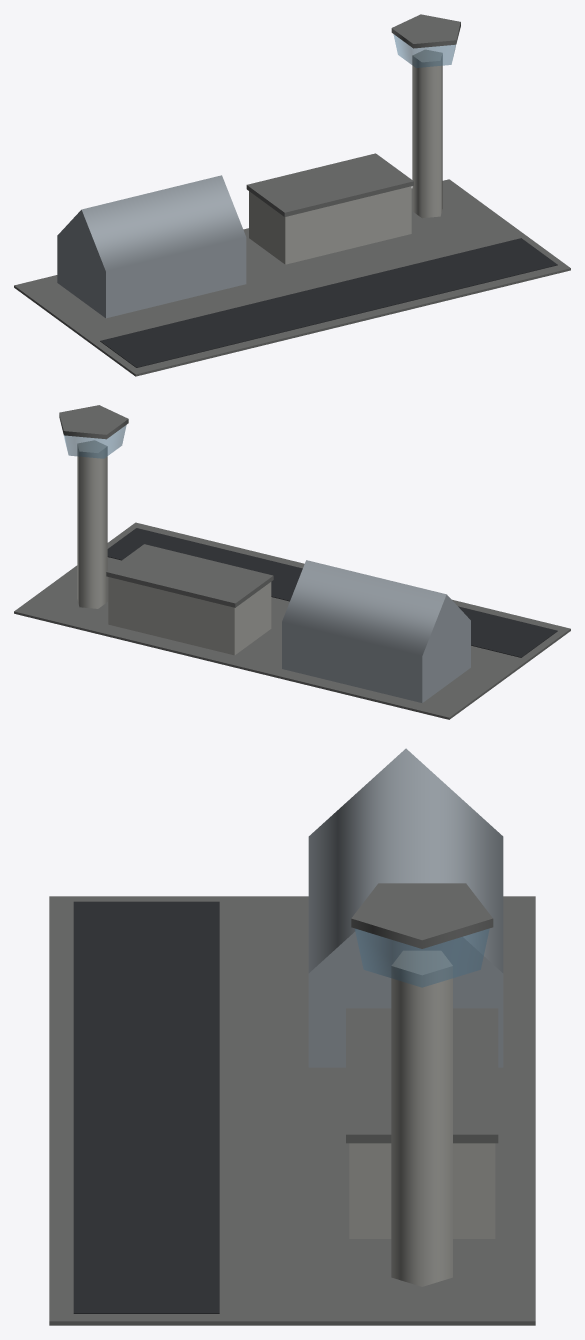
The model's file is bld_special_airport_a06_lod2.glb.
3 views of the same model, one above another, from view 1: azimuth 30°, elevation 25°; view 2: azimuth 150°, elevation 25°; view 3: azimuth 270°, elevation 25° (orthographic). The views are drawn at different scales.
Visible parts, largest first — view 1: body; view 2: body; view 3: body.
Boxes of the visible parts, x1,y1,x2,y2 form: body: (14,14,570,376); body: (14,405,570,719); body: (49,748,535,1325).
Size of the model in its own units: 31 by 12.55 by 15.
